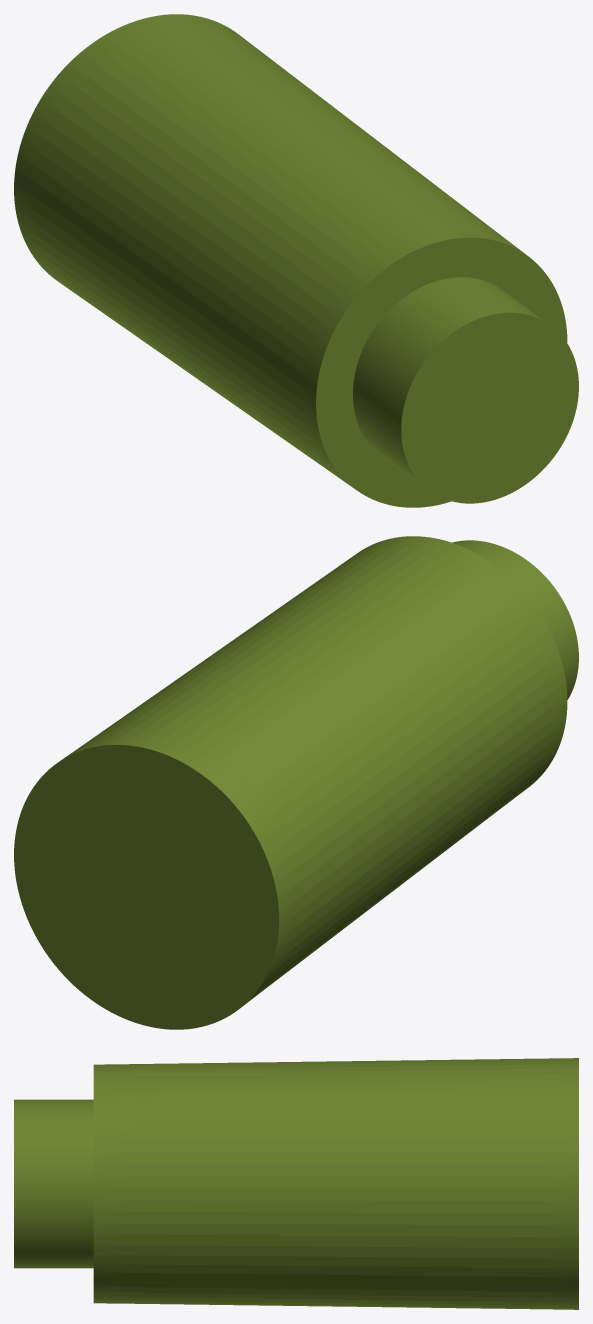
3 views of the same model, one above another, from view 1: azimuth 30°, elevation 25°; view 2: azimuth 150°, elevation 25°; view 3: azimuth 270°, elevation 25° (orthographic). The views are drawn at different scales.
Parts seen in each view (by area): view 1: node; view 2: node; view 3: node.
Boxes of the visible parts, x1,y1,x2,y2 form: node: (14, 14, 578, 507); node: (14, 536, 578, 1029); node: (14, 1058, 578, 1309).
Bounding box in the file's own units: 0.0778 × 0.0778 × 0.1746.
